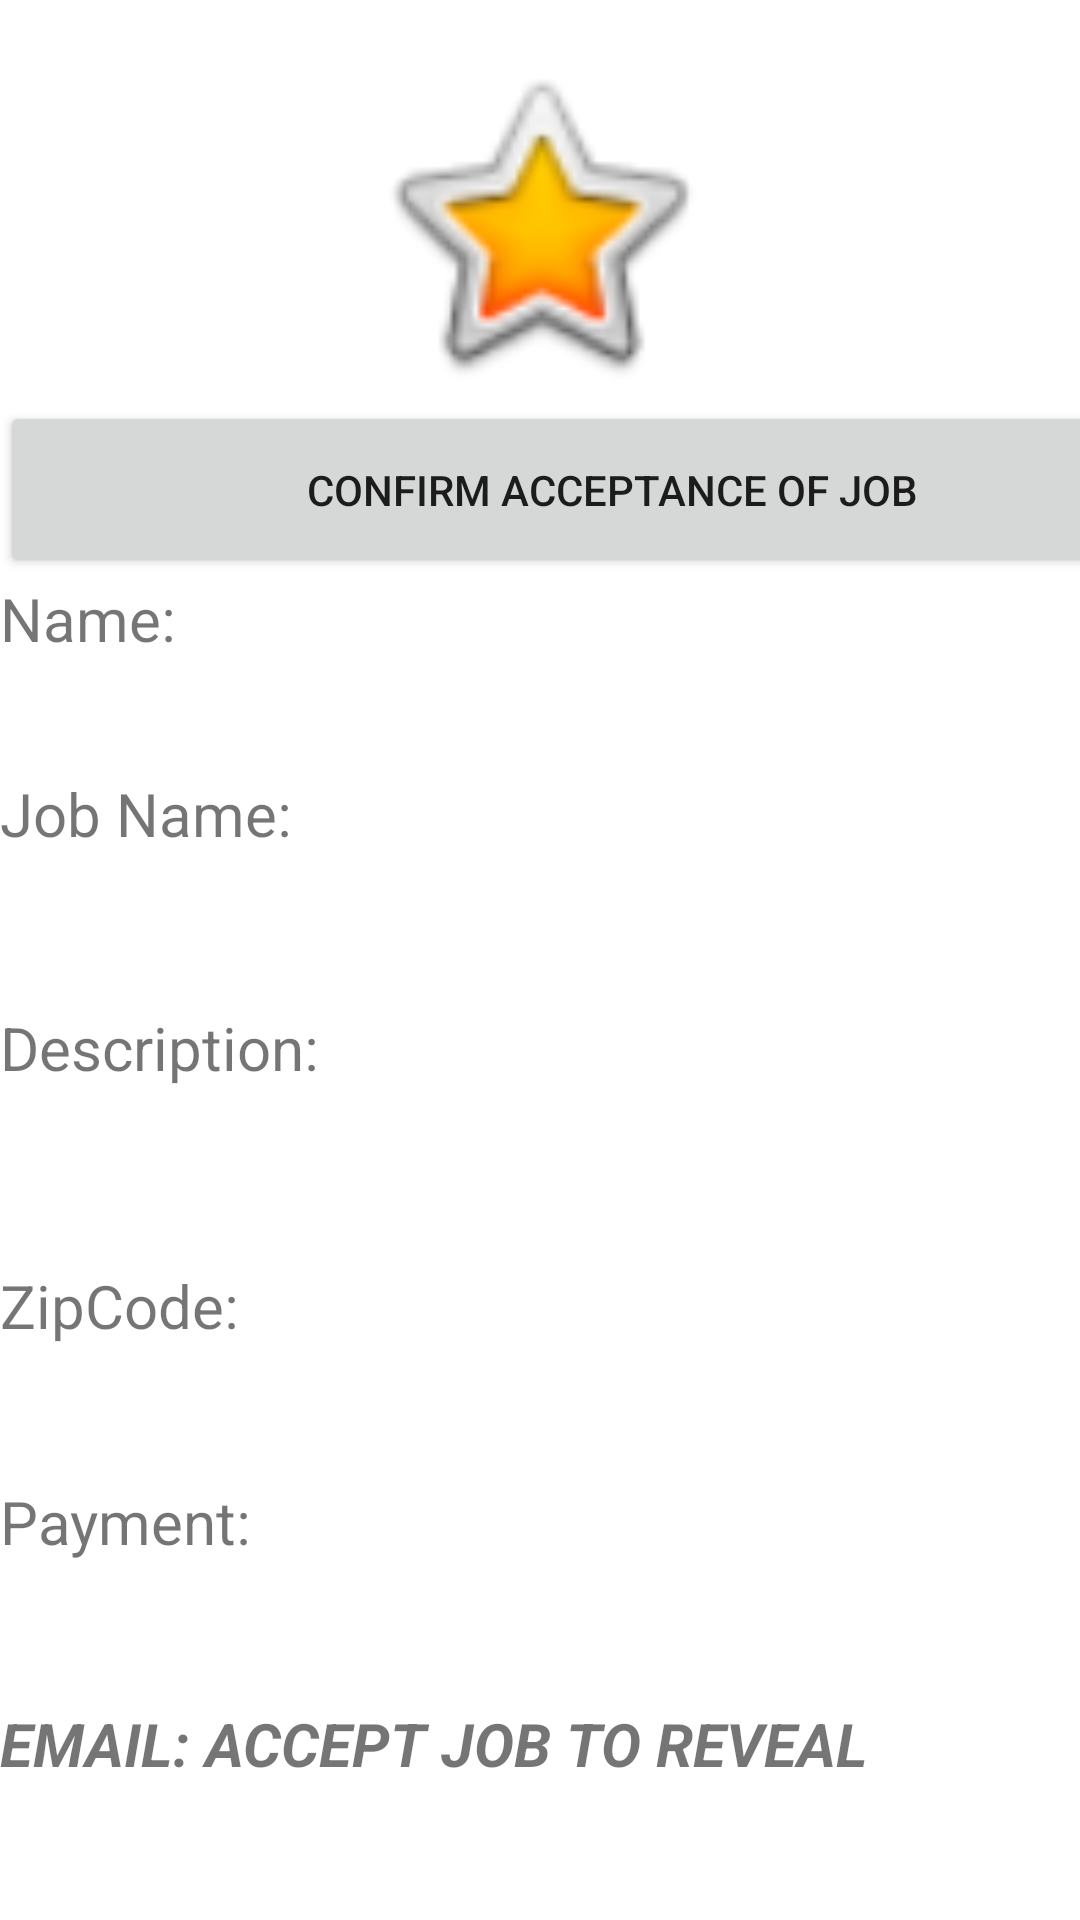

Icon click points for this 1080x1920 phone screenshot, format point (x, y):
star on: point (542, 226)
